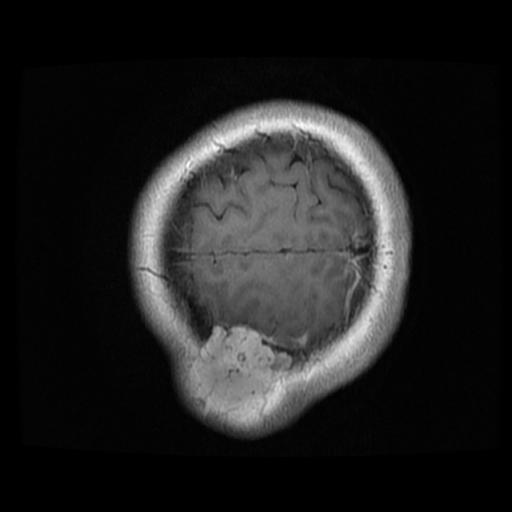meningioma: (199, 323, 289, 408)
